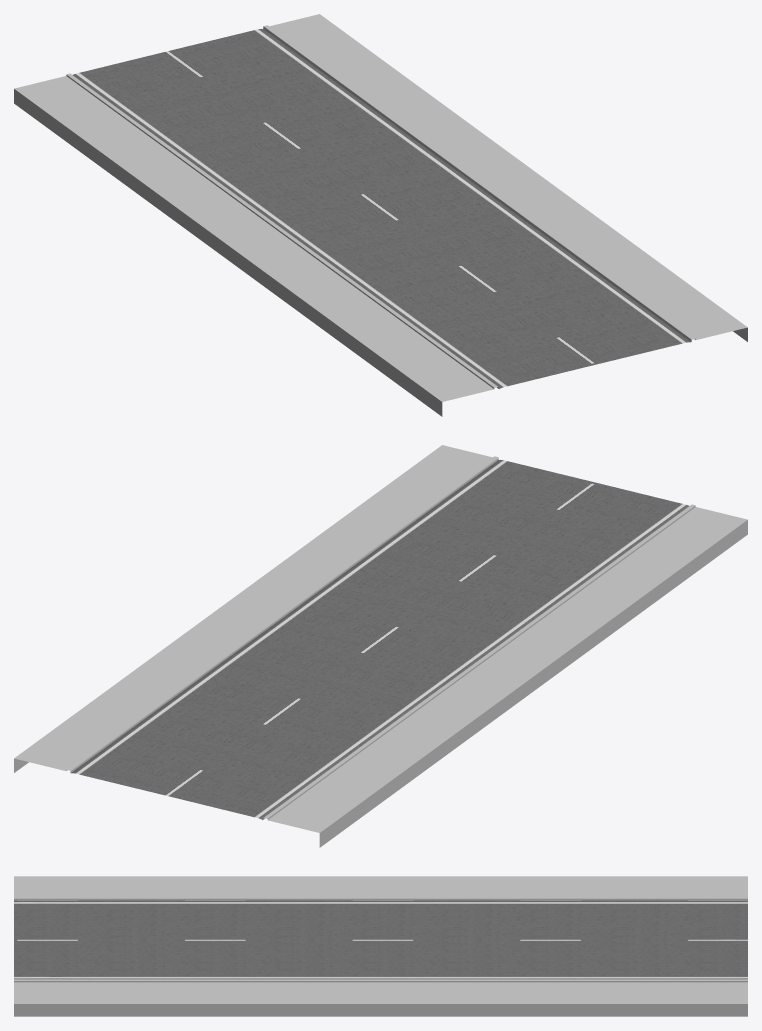
The model's file is StraightRoad.obj.
3 views of the same model, one above another, from view 1: azimuth 30°, elevation 25°; view 2: azimuth 150°, elevation 25°; view 3: azimuth 270°, elevation 25° (orthographic). The views are drawn at different scales.
Visible parts, largest first — view 1: RoadStraight_Plane; view 2: RoadStraight_Plane; view 3: RoadStraight_Plane.
Boxes of the visible parts, box(x1,y1,x2,y2) form: RoadStraight_Plane: box(14, 14, 747, 416); RoadStraight_Plane: box(14, 445, 747, 847); RoadStraight_Plane: box(14, 876, 747, 1016).
Bounding box in the file's own units: 20.58 × 1.05 × 49.93.
Materials: 3 (1 with a texture image).
